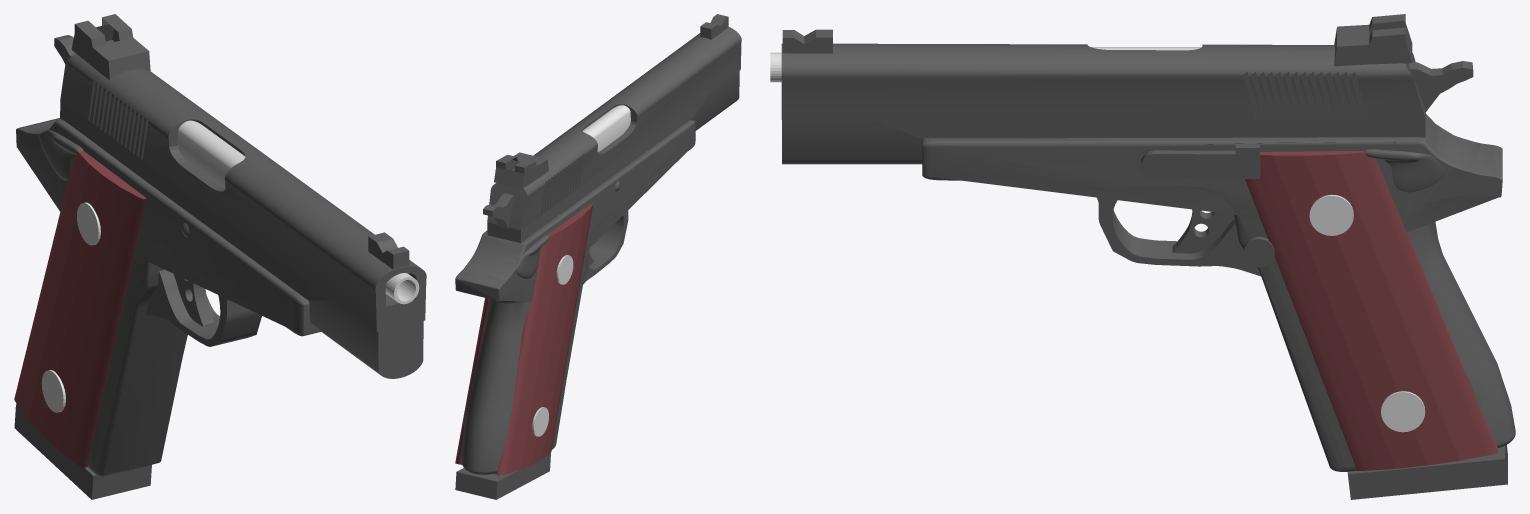
3 views of the same model, side by side, from view 1: azimuth 30°, elevation 25°; view 2: azimuth 150°, elevation 25°; view 3: azimuth 270°, elevation 25° (orthographic). The views are drawn at different scales.
Visible parts, largest first — view 1: Slide, Frame, Grip, Recoil thing, Trigg. Guard, Iron sight front, Barrel, Magazine, Cylinder, Thumb guard, Trigger, Iron sight back; view 2: Frame, Slide, Grip, Magazine, Iron sight front, Trigg. Guard, Recoil thing, Barrel, Cylinder, Thumb guard, Hammer, Iron sight back; view 3: Slide, Grip, Frame, Recoil thing, Magazine, Trigg. Guard, Slide lock, Iron sight front, Cylinder, Thumb guard, Hammer, Trigger (+2 smaller).
Boxes of the visible parts, x1,y1,x2,y2 form: Slide: (60,54,426,331); Frame: (16,118,320,476); Grip: (14,150,146,467); Recoil thing: (308,294,423,378); Trigg. Guard: (146,269,261,346); Iron sight front: (71,14,150,79); Barrel: (177,120,419,304); Magazine: (14,404,151,499); Cylinder: (41,202,100,412); Thumb guard: (39,129,83,180); Trigger: (174,274,214,326); Iron sight back: (368,232,409,274); Frame: (455,119,695,474); Slide: (487,27,741,242); Grip: (455,204,592,474); Magazine: (455,453,550,499); Iron sight front: (494,152,548,188); Trigg. Guard: (583,210,628,284); Recoil thing: (691,71,739,130); Barrel: (583,105,630,151); Cylinder: (532,255,573,436); Thumb guard: (474,235,549,278); Hammer: (483,193,514,229); Iron sight back: (700,14,728,39); Slide: (781,43,1425,138); Grip: (1245,151,1498,470); Frame: (922,113,1515,471); Recoil thing: (782,119,923,164); Magazine: (1347,445,1507,499); Trigg. Guard: (1097,197,1261,276); Slide lock: (1141,144,1260,179); Iron sight front: (1334,14,1412,66); Cylinder: (1309,194,1425,432); Thumb guard: (1364,125,1452,192); Hammer: (1409,61,1473,112); Trigger: (1172,209,1234,253).
Size of the model in its own units: 67.52 by 341 by 499.
